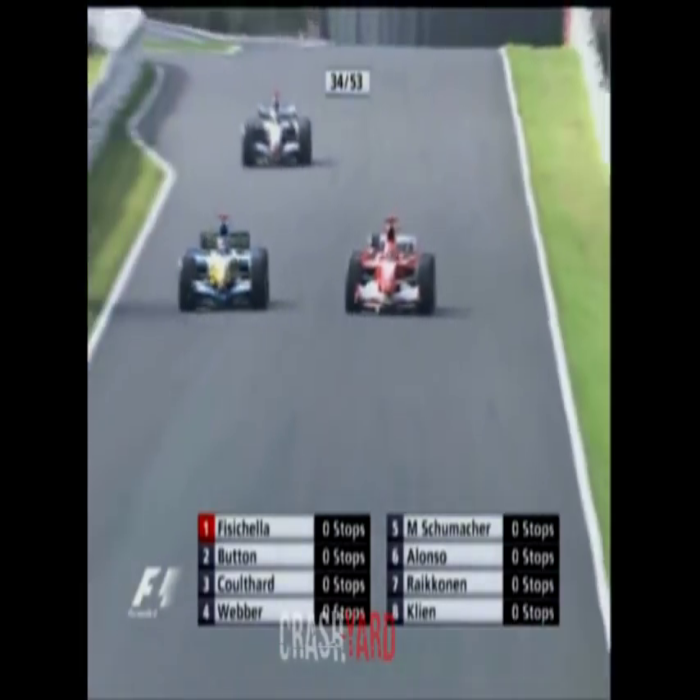f1_car: (333, 211, 447, 325), (172, 210, 275, 321), (232, 90, 323, 176)
